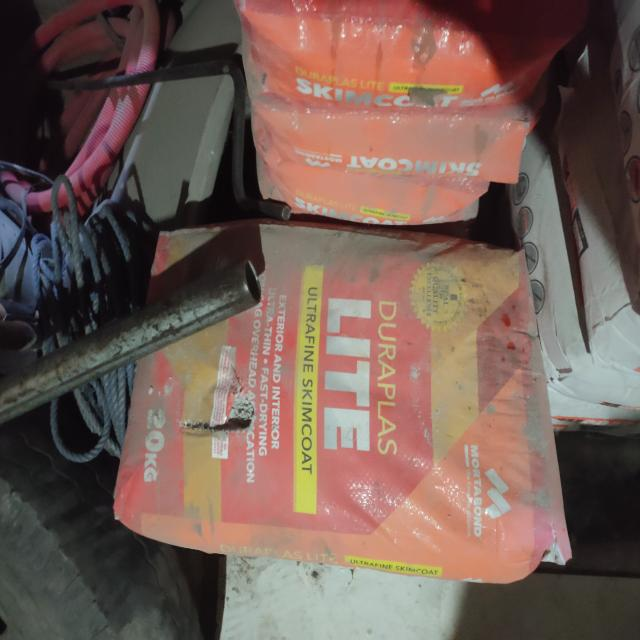Skim coat: (155, 233, 532, 546), (242, 5, 541, 110), (257, 104, 526, 179), (273, 162, 483, 223)
